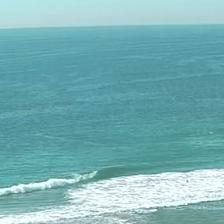surfer: (187, 180, 189, 182)
